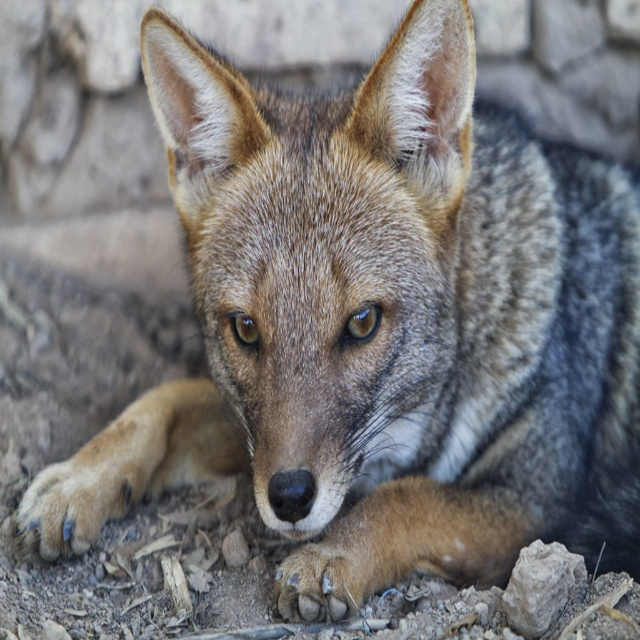Fox: (12, 0, 640, 625)
